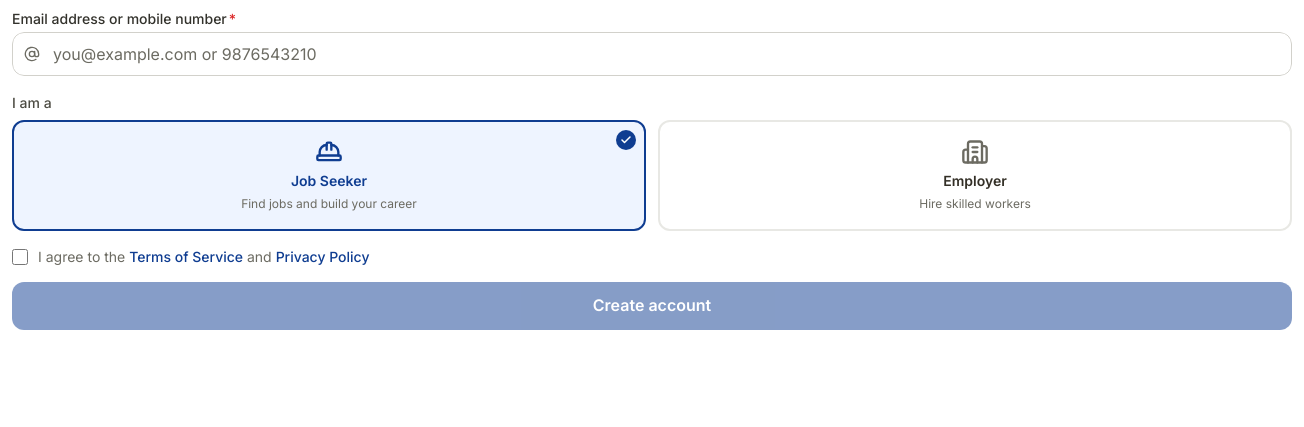
Test case: SignupForm — one field, two credentials › asks for a password once the field looks like an email address
Type "someone@example.com" into the field labelled "Email address or mobile number*".
click(652, 54); type("someone@example.com")  # box [12,32,1292,76]
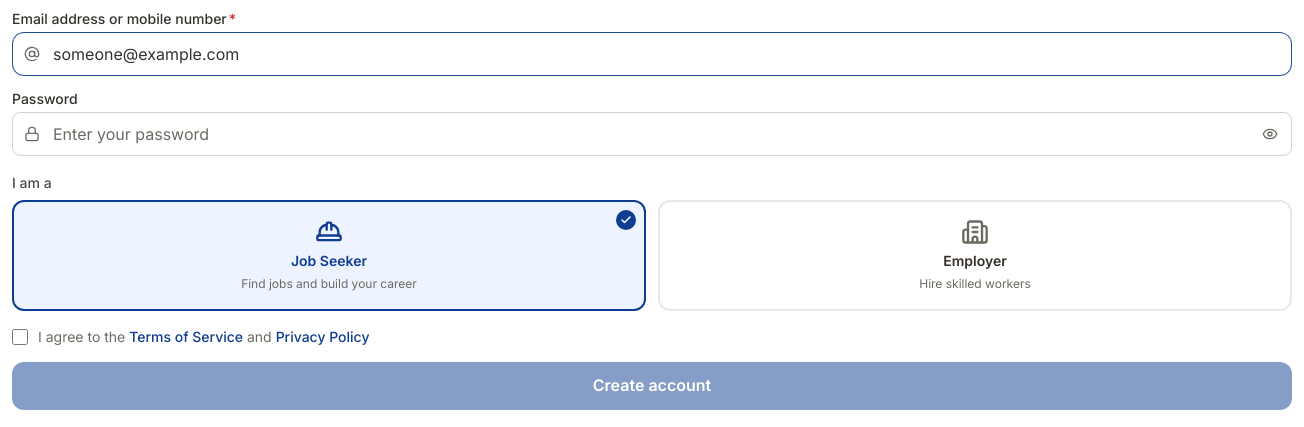
expect the password field labelled "Password" is shown: met, box [12,112,1292,156]
